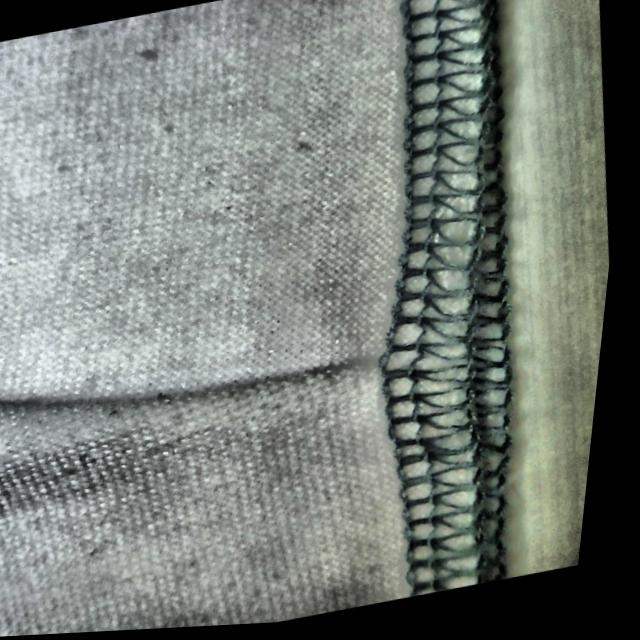seam: (122, 285, 485, 500)
